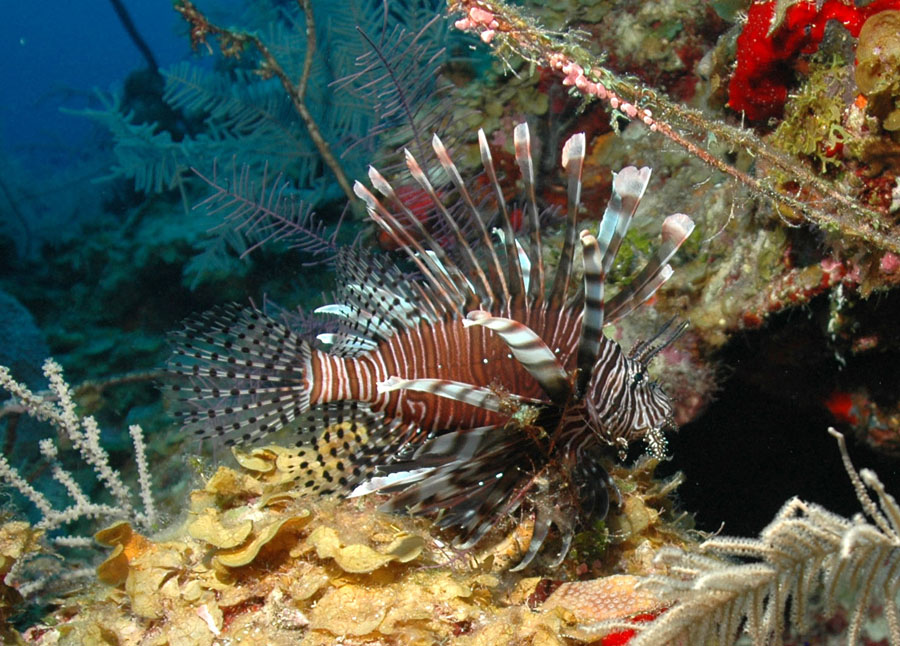Pterois_volitans: (303, 174, 697, 516)
